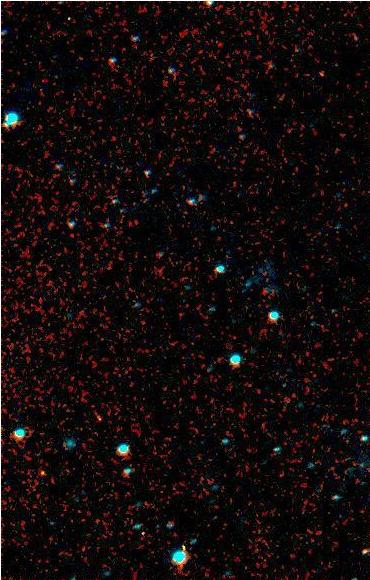star: (307, 58, 337, 88)
